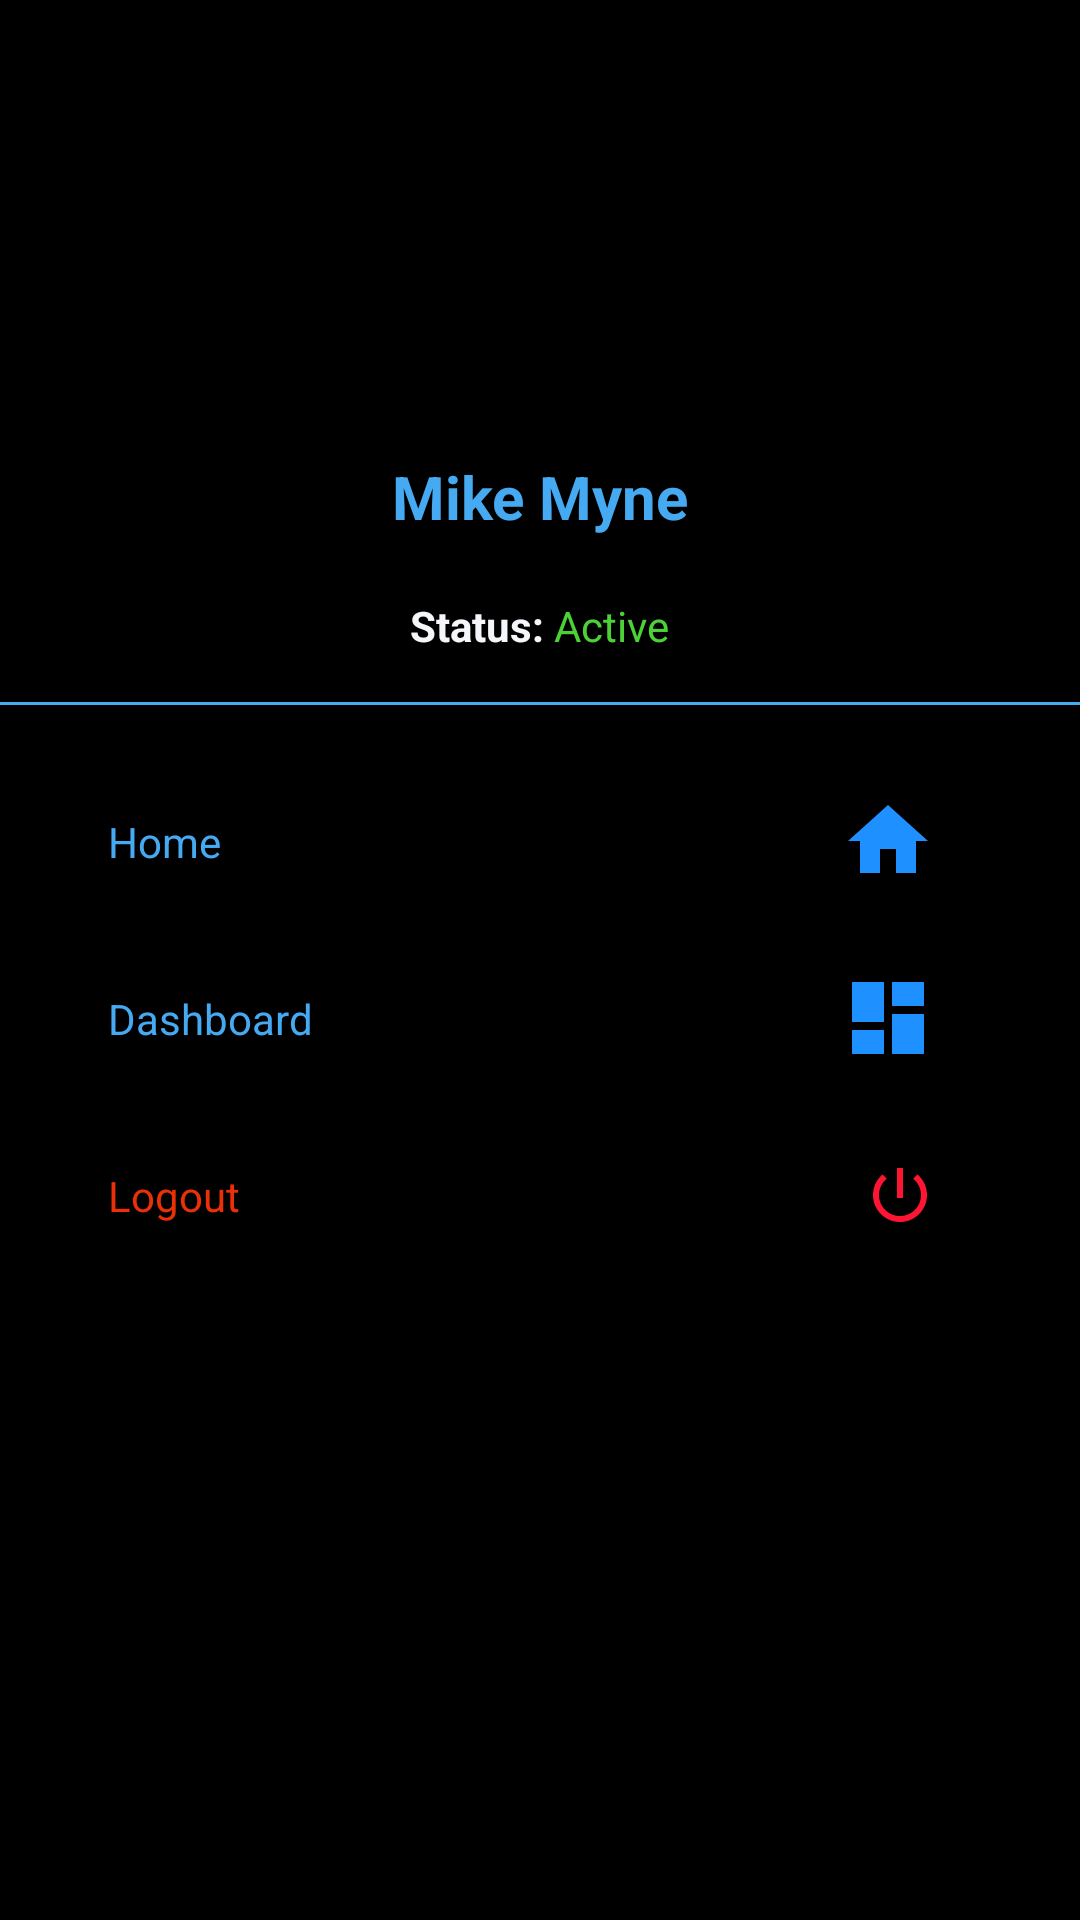

Locate icon controls on the screen. Image size 1080px×1920px, boxes as [x1=x1, y1=y1, x2=x2, y2=y2].
off: [x1=873, y1=1168, x2=927, y2=1222]
